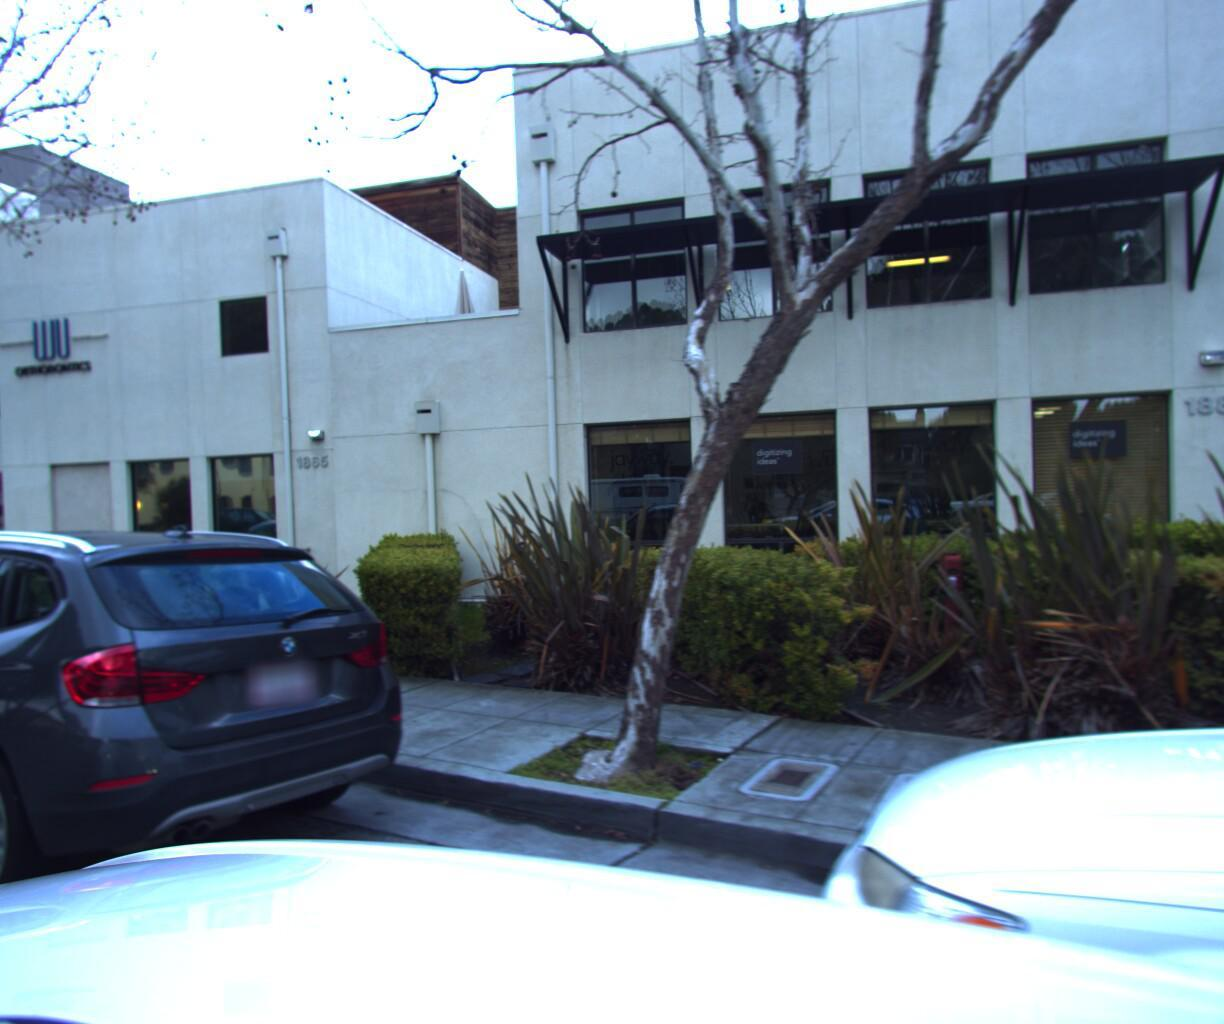car: (0, 513, 447, 1005)
